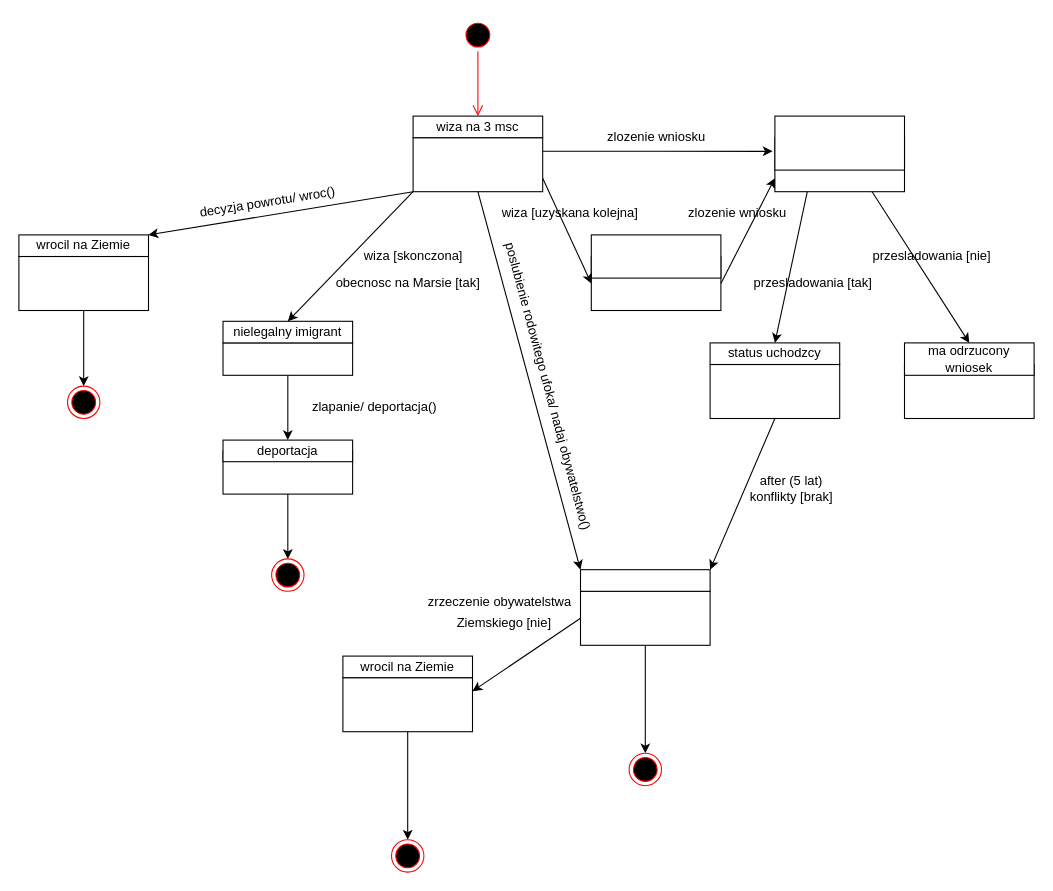
Image size: 1053x891. Some labels were removed from this diagram. The centre of each missing label's shape, as x and y in pixels:
"ma wize przedluzona na 6 msc" belongs at point (655, 256).
"obywatel Marsa" belongs at point (644, 580).
"zlozenie wniosku o przyznanie statusu uchodzcy" belongs at point (839, 142).
